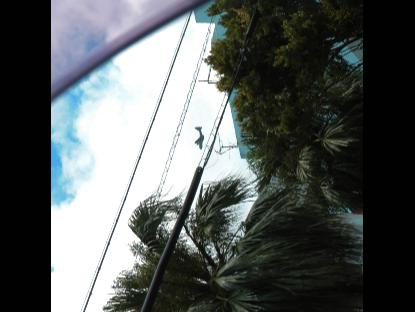Be200: (195, 126, 204, 149)
